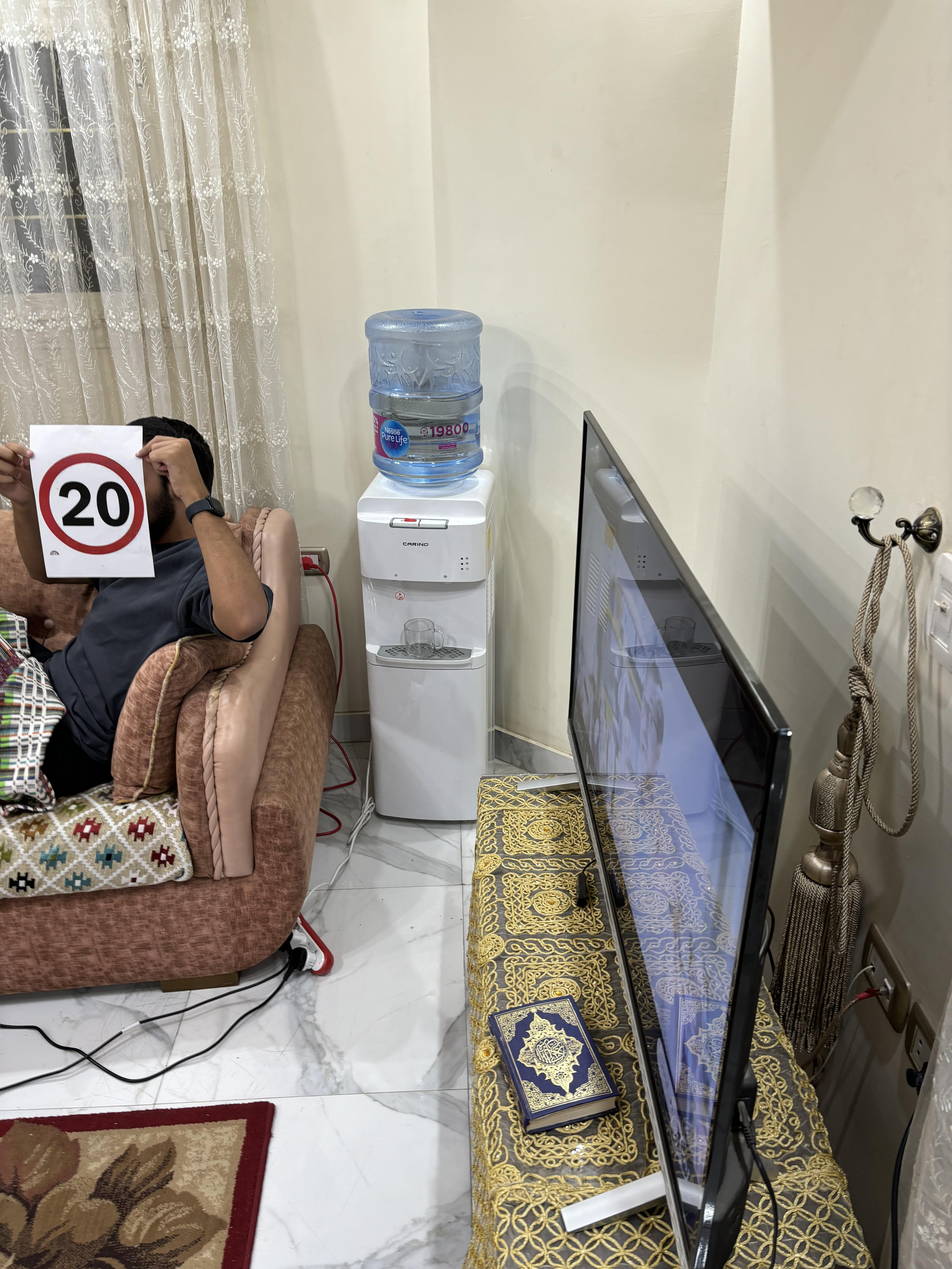20-Speed: (45, 456, 152, 547)
